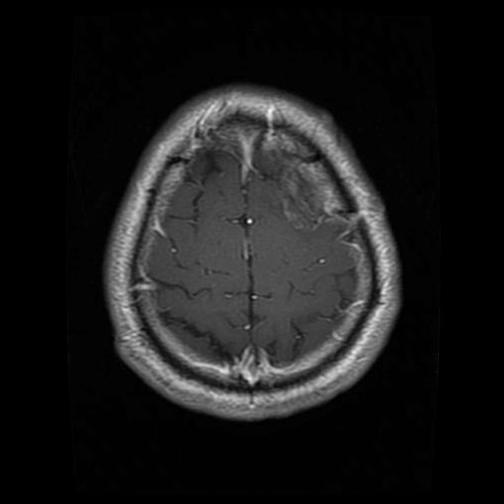Tumour-Glioma: (276, 178, 334, 245)
